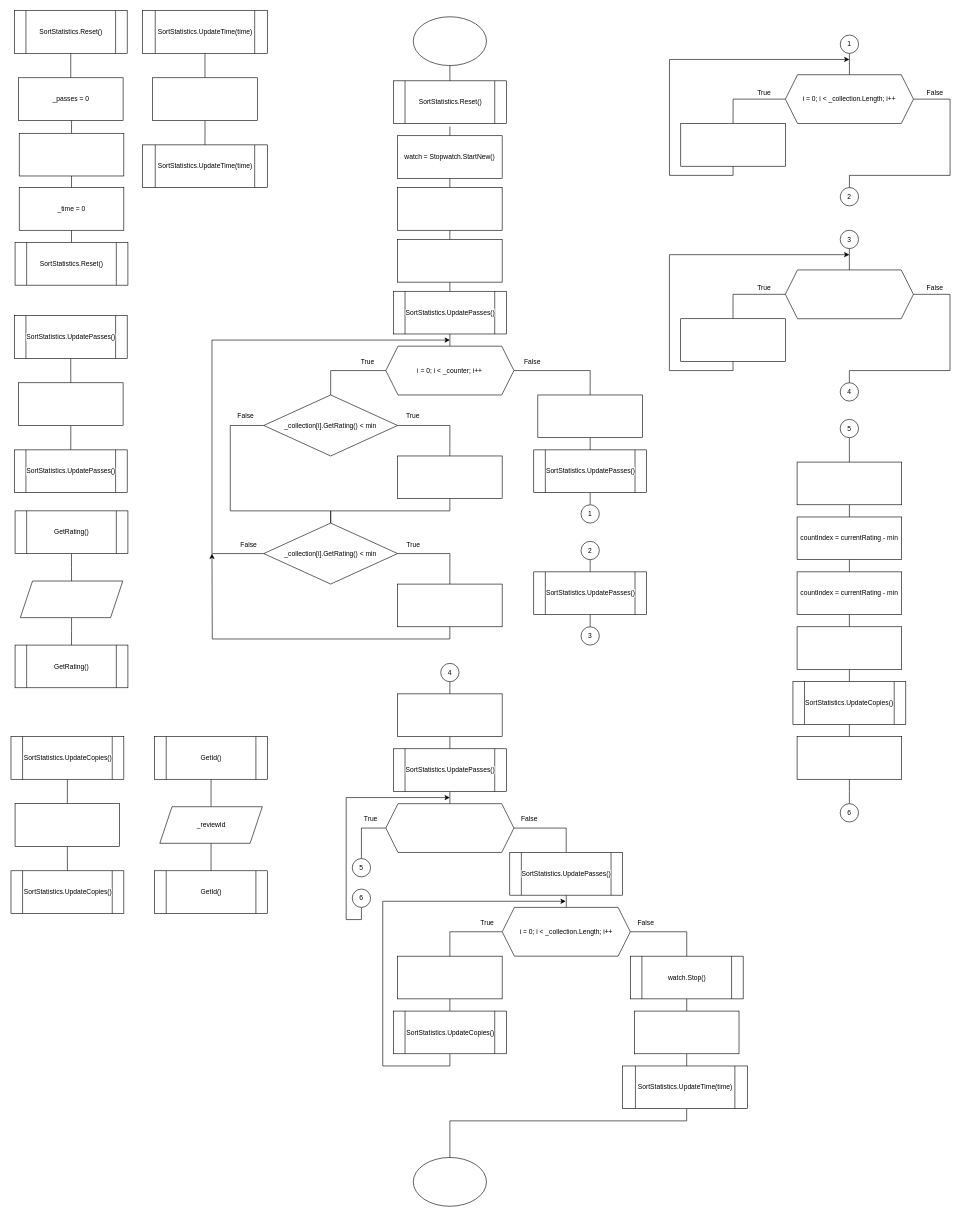
Image size: 961x1217. Some labels were removed from this diagram. The shapes that lost their labels are listed below. From the top down, each one's box as (x1, y1, x2, y2) in pixels, then its label:
(413, 16, 486, 66): Start
(152, 77, 257, 120): _time = time
(19, 133, 124, 176): _copies = 0
(680, 123, 785, 166): count[_collection[i].GetRating - min]++
(397, 187, 502, 230): min = 11
(397, 239, 502, 282): max = 0
(785, 269, 913, 319): i = 0; i < count.Length; i++
(680, 318, 785, 361): count[i] += count[i - 1]
(18, 382, 123, 425): _passes++
(537, 394, 642, 438): count = new int[max - min + 1]
(397, 455, 502, 499): min = _collection.GetRating()
(796, 461, 902, 505): currentRating = collection[i].GetRating()
(20, 580, 123, 618): _rating
(397, 583, 502, 627): max = _collection.GetRating()
(796, 626, 902, 669): output[targetPosition] = _collection[i]
(397, 693, 502, 737): output = new Record[_collection.Length]
(796, 736, 902, 779): count[countIndex]--
(14, 803, 120, 846): _copies++
(385, 803, 514, 852): i = _collection.Length - 1; i >= 0; i--
(397, 956, 502, 999): _collection[i] = output[i]
(634, 1010, 739, 1054): elapsedMs = watch.ElapseMilliseconds
(413, 1157, 486, 1206): End
